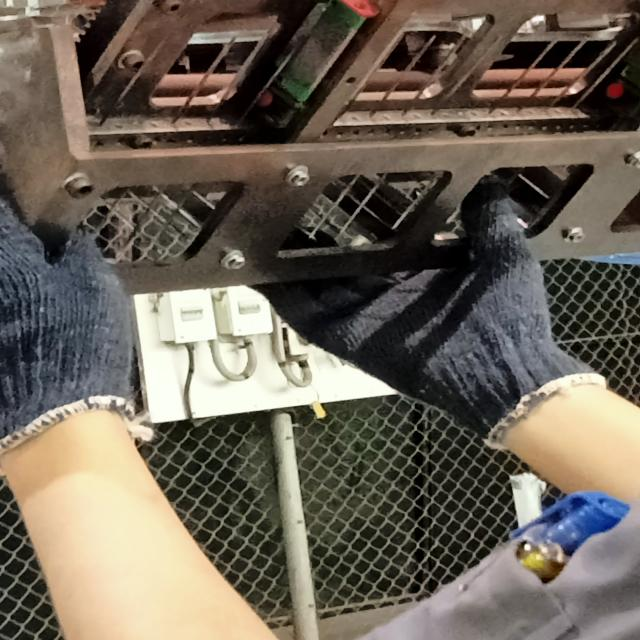Gloves-Detection: (265, 197, 618, 445), (0, 200, 158, 448)
